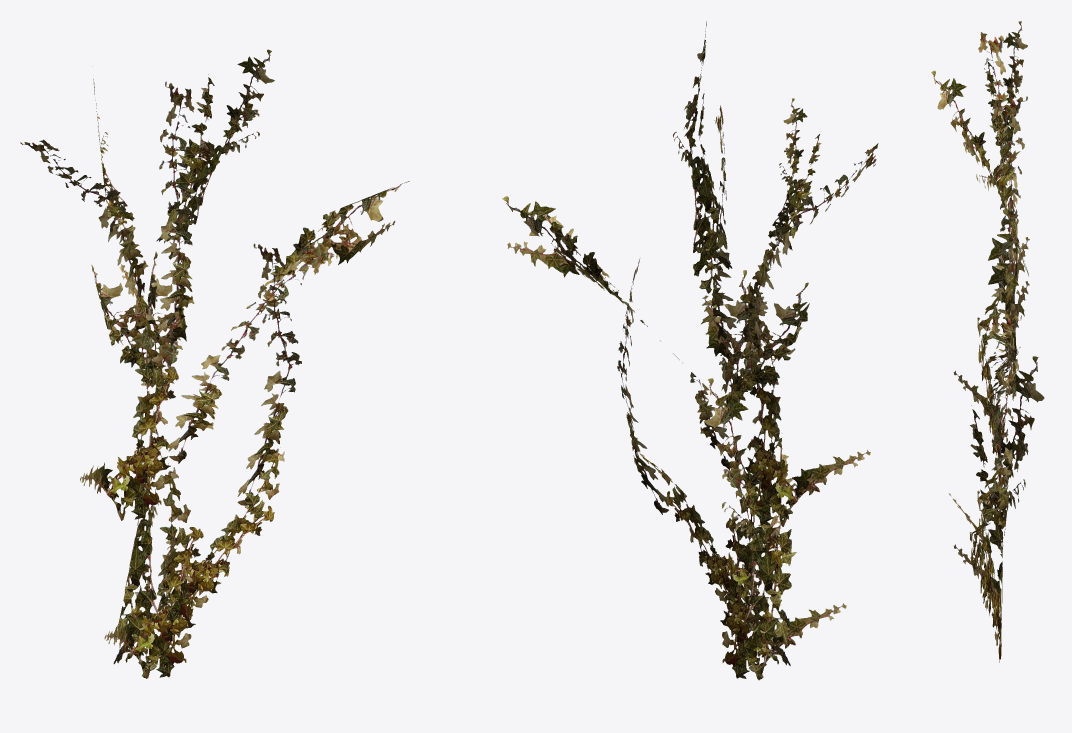
File: ivy22_lod2.fbx
The picture shows the model from 3 angles, left to right: view 1: azimuth 30°, elevation 25°; view 2: azimuth 150°, elevation 25°; view 3: azimuth 270°, elevation 25°; orthographic projection. The views are drawn at different scales.
Visible parts, largest first — view 1: Mesh Object; view 2: Mesh Object; view 3: Mesh Object.
Part boxes in pixels (<box>): Mesh Object: <box>20,49,409,678</box>; Mesh Object: <box>502,21,878,680</box>; Mesh Object: <box>931,21,1044,662</box>.
Bounding box in the file's own units: 1.84 × 2.88 × 0.5413.
